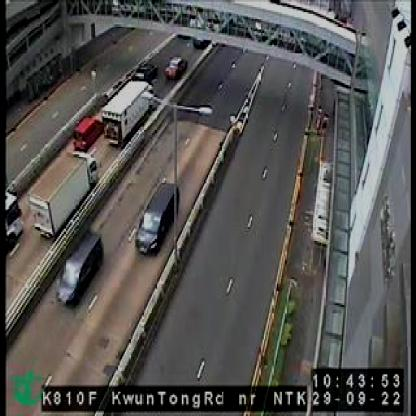Car: (128, 177, 180, 251), (58, 226, 104, 304), (73, 114, 103, 148), (130, 59, 159, 85), (165, 57, 186, 80)
Truck: (33, 149, 100, 243), (104, 80, 156, 146)
